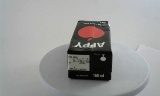appy: (60, 19, 105, 81)
